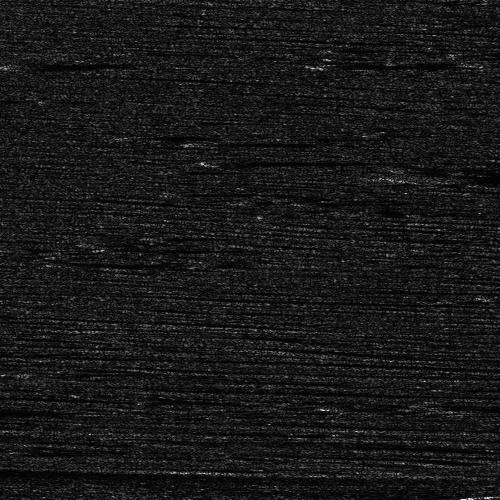object: (453, 493, 494, 498)
shadow: (0, 407, 34, 416), (474, 493, 500, 498)
